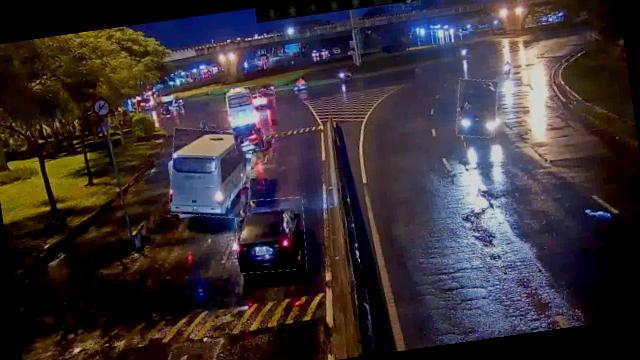Bus: (162, 121, 260, 224), (223, 86, 260, 128)
Car: (230, 194, 310, 277), (232, 120, 265, 152), (249, 88, 275, 109)
Truck: (451, 75, 502, 140)
